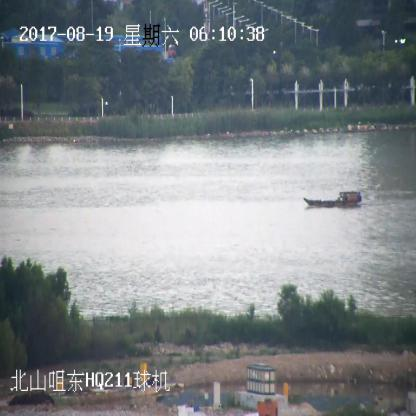Fishing Boat: (304, 192, 361, 206)
